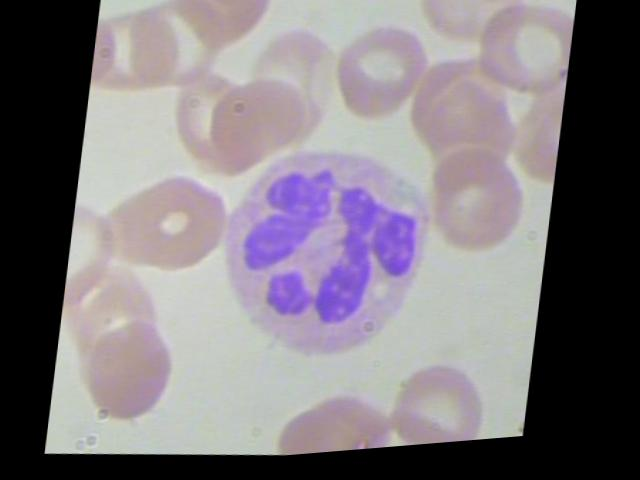Red Blood Cells: (105, 161, 238, 285), (425, 150, 534, 272), (328, 20, 436, 142), (469, 0, 576, 120), (80, 320, 181, 436), (73, 281, 174, 396), (391, 354, 508, 453), (209, 73, 316, 179), (271, 385, 401, 461), (409, 0, 528, 64)
White Blood Cells: (208, 131, 439, 385)
